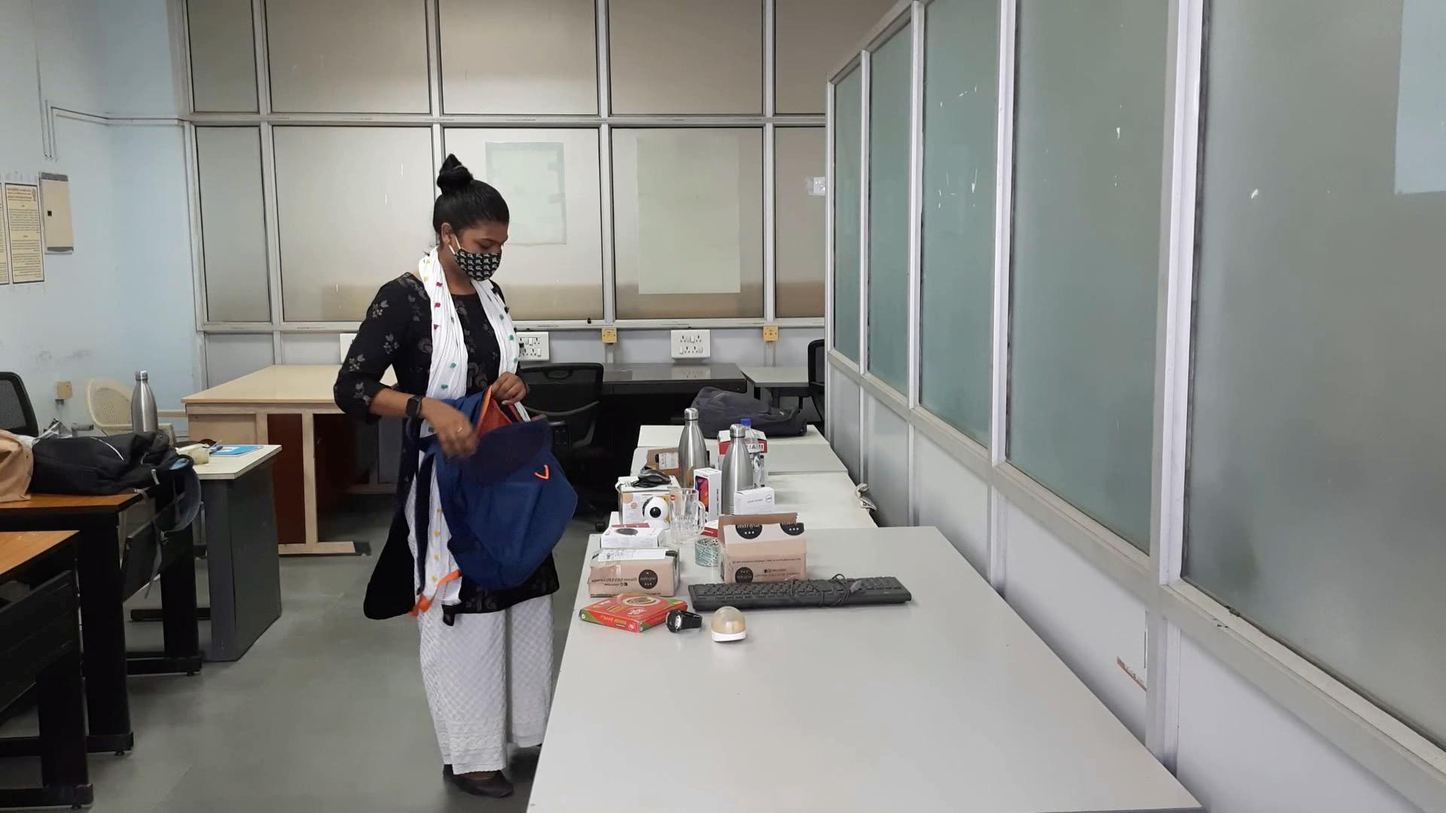shoplifting: (304, 362, 802, 646)
